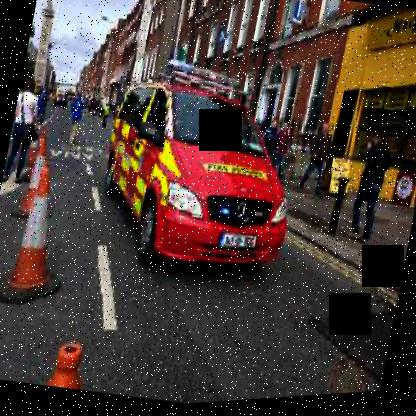emergency: (68, 41, 336, 321)
